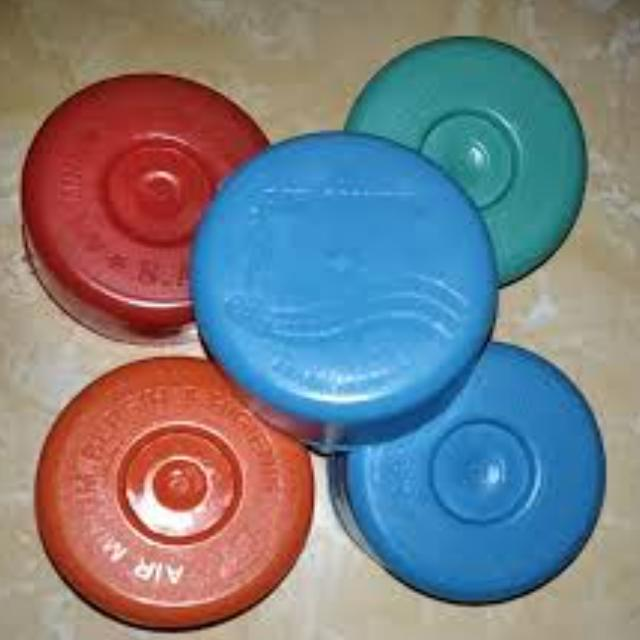TutupGalon: (18, 32, 608, 632)
